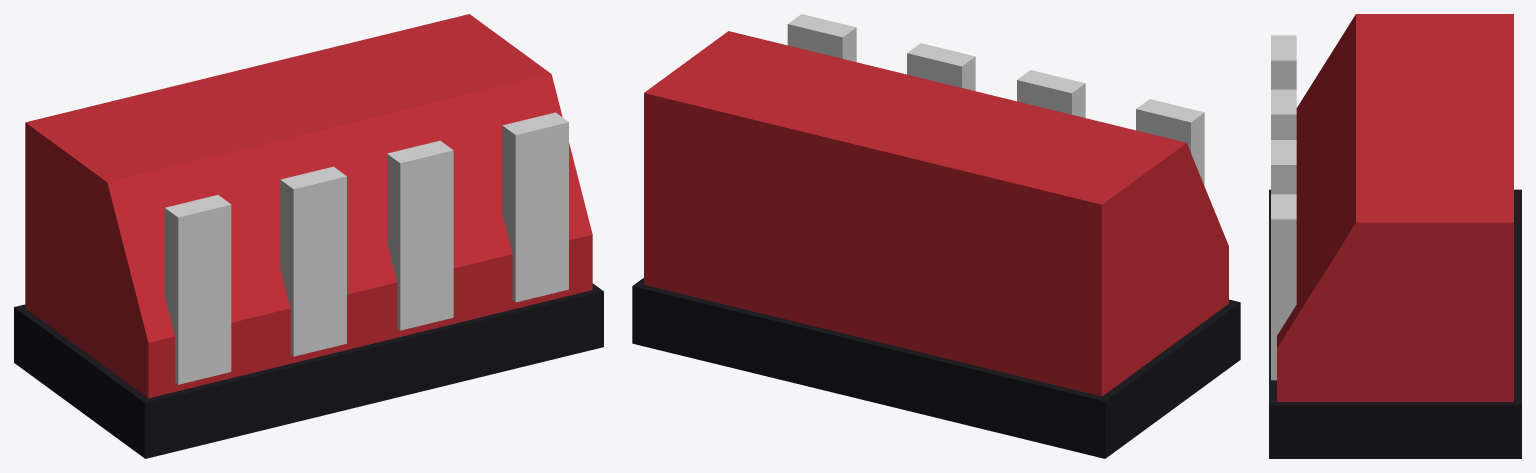
The model's file is barrierA.glb.
3 views of the same model, side by side, from view 1: azimuth 30°, elevation 25°; view 2: azimuth 150°, elevation 25°; view 3: azimuth 270°, elevation 25° (orthographic). The views are drawn at different scales.
Visible parts, largest first — view 1: funfair-barrierA; view 2: funfair-barrierA; view 3: funfair-barrierA.
Boxes of the visible parts, box(x1,y1,x2,y2) form: funfair-barrierA: box(14, 14, 603, 458); funfair-barrierA: box(632, 14, 1240, 458); funfair-barrierA: box(1269, 14, 1521, 458).
Bounding box in the file's own units: 0.258 × 0.13 × 0.128.
